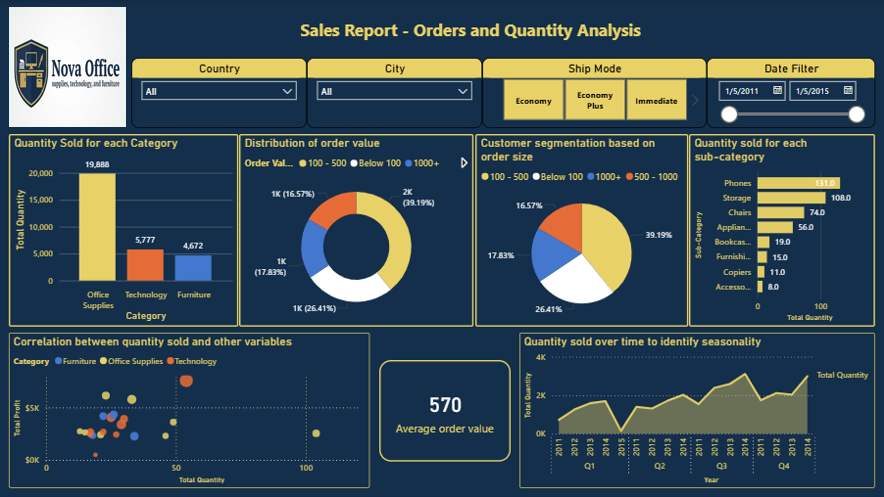

This screenshot's page, from the dashboard's own definition file:
{"tool":"powerbi","page":{"name":"Order and Quantity Analysis","canvas":[1280,720],"ordinal":4},"visuals":[{"type":"slicer","title":"Date Filter ","fields":{"Values":["Dim_Date.Date"]},"box":[1023.3,83.6,243.8,102],"z":0},{"type":"slicer","title":"Ship Mode ","fields":{"Values":["Dim_Ship Mode.Ship Mode"]},"box":[698.7,83.6,324.6,102],"z":1000},{"type":"slicer","title":"City","fields":{"Values":["Dim_City.City"]},"box":[445,83.6,253.7,102],"z":2000},{"type":"slicer","title":"Country","fields":{"Values":["Dim_City.City"]},"box":[191.3,83.6,253.7,102],"z":3000},{"type":"textbox","box":[431,21.8,727.1,51.2],"z":4000},{"type":"clusteredColumnChart","title":"Quantity Sold for each Category","fields":{"Category":["Dim_Category.Category"],"Y":["-Measures.Total Quantity"]},"box":[14.2,194.2,331.7,279.2],"z":5000},{"type":"clusteredBarChart","title":"Quantity sold for each sub-category","fields":{"Y":["-Measures.Total Quantity"],"Category":["Dim_Sub-Category.Sub-Category"]},"box":[997.8,194.2,269.3,279.2],"z":6000},{"type":"lineChart","title":"Quantity sold over time to identify seasonality","fields":{"Y":["-Measures.Total Quantity"],"Category":["Dim_Date.Quarter","Dim_Date.Year"]},"box":[752.6,481.9,514.5,225.4],"z":7000},{"type":"scatterChart","title":"Correlation between quantity sold and other variables","fields":{"X":["-Measures.Total Quantity"],"Y":["-Measures.Total Profit"],"Size":["-Measures.Total Sales"],"Series":["Dim_Category.Category"],"Category":["Dim_Product.Product Name"]},"box":[14.2,481.9,521.6,225.4],"z":8000},{"type":"card","fields":{"Values":["-Measures.Average order value"]},"box":[549.9,521.6,189.9,147.4],"z":9000},{"type":"donutChart","title":"Distribution of order value","fields":{"Category":["Orders Summary.Order Value Segment"],"Y":["Orders Summary.Orders Count"]},"box":[347.2,194.2,338.7,279.2],"z":10000},{"type":"pieChart","title":"Customer segmentation based on order size","fields":{"Category":["Orders Summary.Order Value Segment"],"Y":["Orders Summary.Orders Count"]},"box":[688.8,194.2,307.6,279.2],"z":11000}]}

Visuals, with their boxes in screenshot pixels (x1, y1, x2, y2), scaled from the page's 1280x720 canvas onto the 884x497 screenshot:
"Date Filter " slicer: locate(707, 58, 875, 128)
"Ship Mode " slicer: locate(483, 58, 707, 128)
"City" slicer: locate(307, 58, 483, 128)
"Country" slicer: locate(132, 58, 307, 128)
textbox: locate(298, 15, 800, 50)
"Quantity Sold for each Category" clusteredColumnChart: locate(10, 134, 239, 327)
"Quantity sold for each sub-category" clusteredBarChart: locate(689, 134, 875, 327)
"Quantity sold over time to identify seasonality" lineChart: locate(520, 333, 875, 488)
"Correlation between quantity sold and other variables" scatterChart: locate(10, 333, 370, 488)
card - -Measures.Average order value: locate(380, 360, 511, 462)
"Distribution of order value" donutChart: locate(240, 134, 474, 327)
"Customer segmentation based on order size" pieChart: locate(476, 134, 688, 327)
